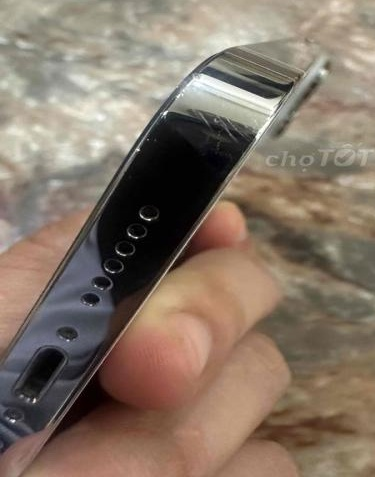scratch: (169, 83, 304, 154)
